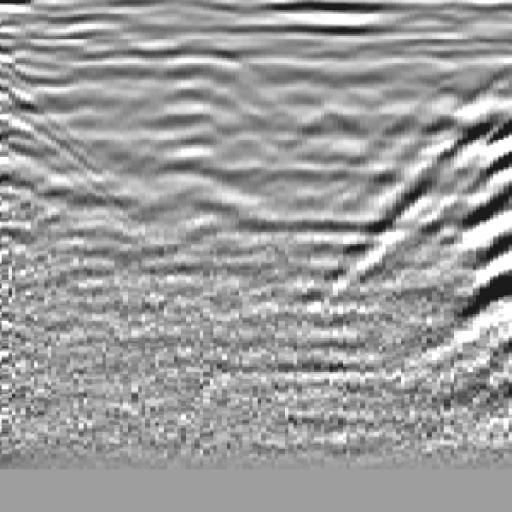metalic: (99, 32, 291, 280)
nonmetalic: (368, 53, 512, 307)
